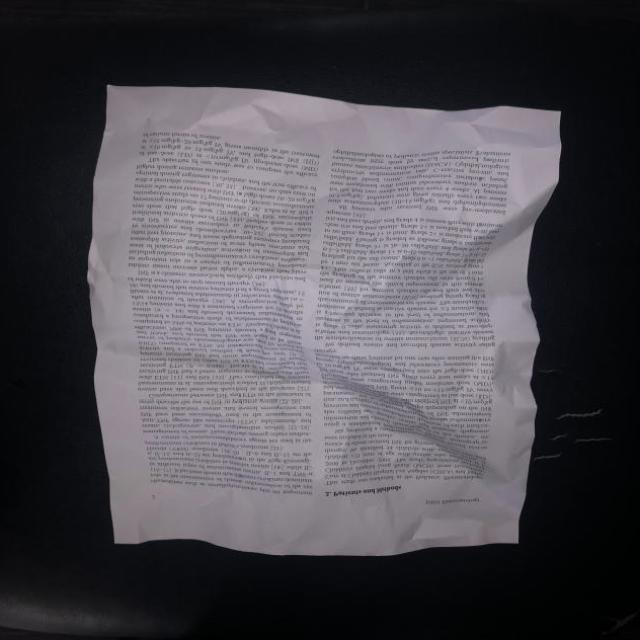kertas: (70, 79, 563, 572)
